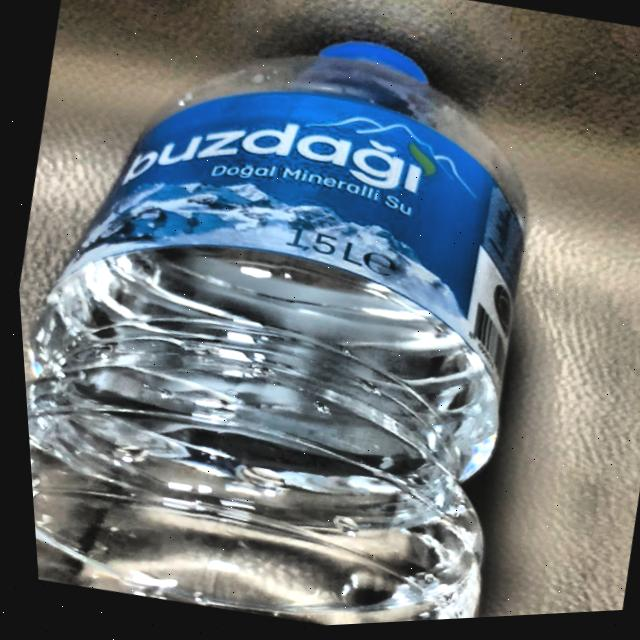plastic: (18, 42, 533, 628)
